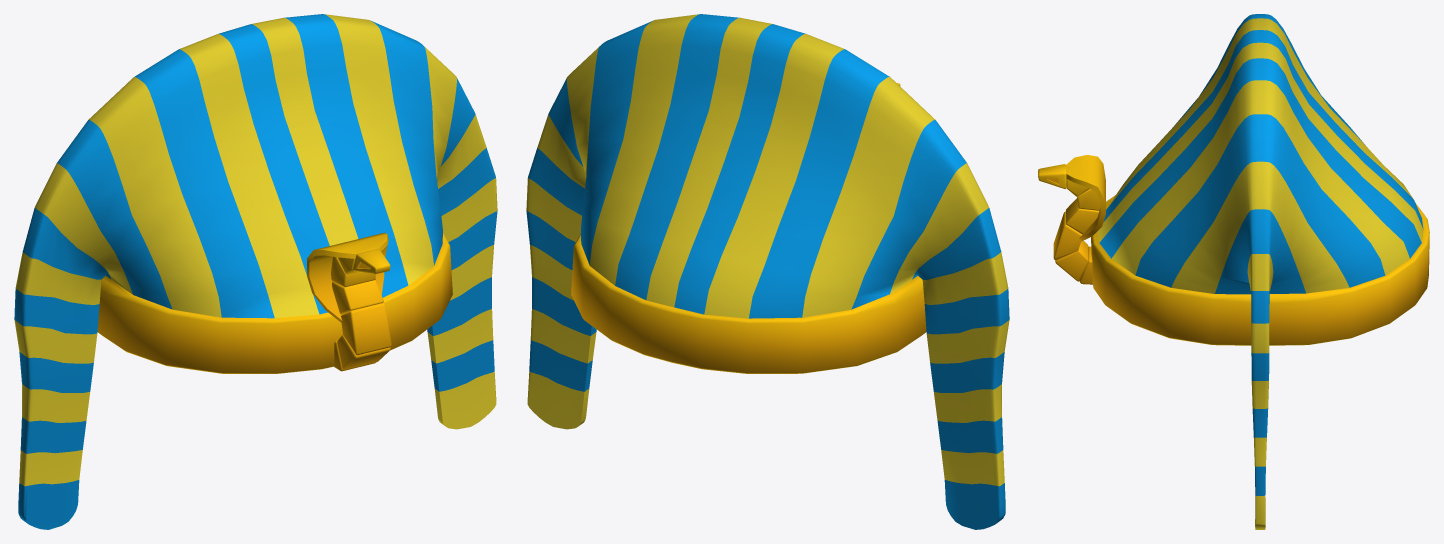
Rendered from hat.fbx.
The picture shows the model from 3 angles, left to right: view 1: azimuth 30°, elevation 25°; view 2: azimuth 150°, elevation 25°; view 3: azimuth 270°, elevation 25°; orthographic projection. The views are drawn at different scales.
Parts seen in each view (by area): view 1: Stickman_heads_sphere.001; view 2: Stickman_heads_sphere.001; view 3: Stickman_heads_sphere.001.
Boxes of the visible parts, x1,y1,x2,y2 form: Stickman_heads_sphere.001: (14, 14, 497, 529); Stickman_heads_sphere.001: (526, 14, 1009, 529); Stickman_heads_sphere.001: (1038, 14, 1429, 529).
Bounding box in the file's own units: 0.8853 × 0.7995 × 0.7177.
1 material, 1 textured.
